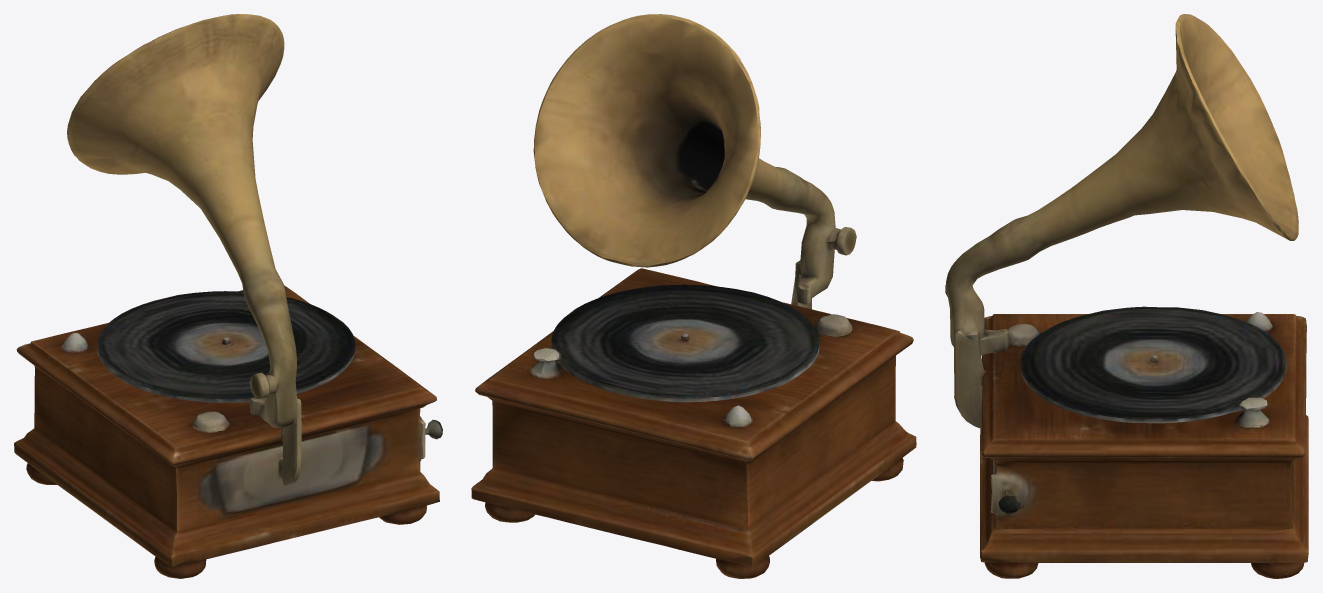
File: record.glb
The picture shows the model from 3 angles, left to right: view 1: azimuth 30°, elevation 25°; view 2: azimuth 150°, elevation 25°; view 3: azimuth 270°, elevation 25°; orthographic projection. The views are drawn at different scales.
Visible parts, largest first — view 1: record; view 2: record; view 3: record.
Part boxes in pixels (x1=…): record: x1=14, y1=14, x2=442, y2=578; record: x1=471, y1=14, x2=916, y2=578; record: x1=945, y1=14, x2=1308, y2=578.
Bounding box in the file's own units: 0.4763 × 0.75 × 0.5071.
1 material, 1 textured.
